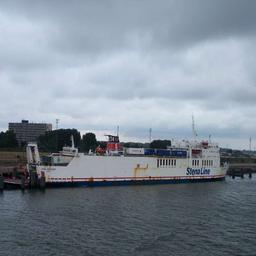Ship: (23, 137, 231, 187)
